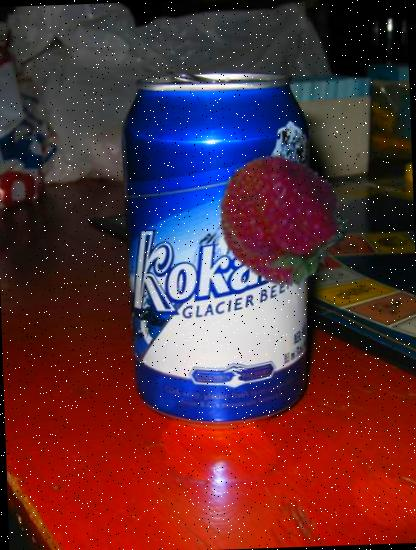Strawberry: (216, 156, 349, 288)
